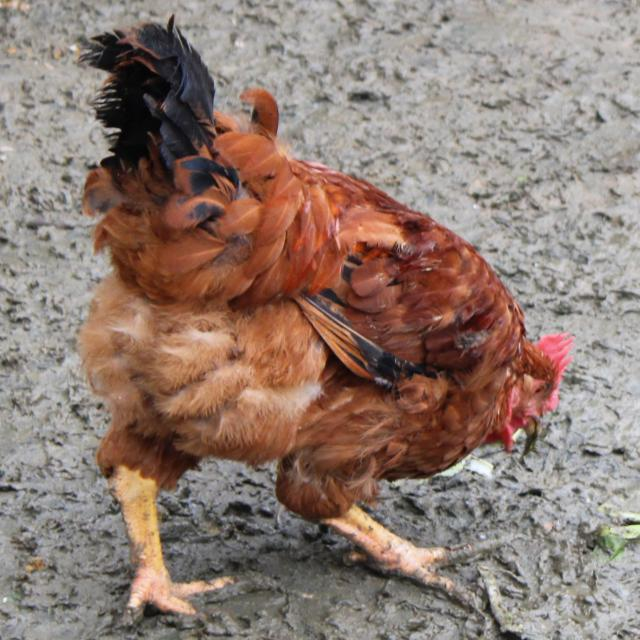cook: (75, 12, 576, 615)
